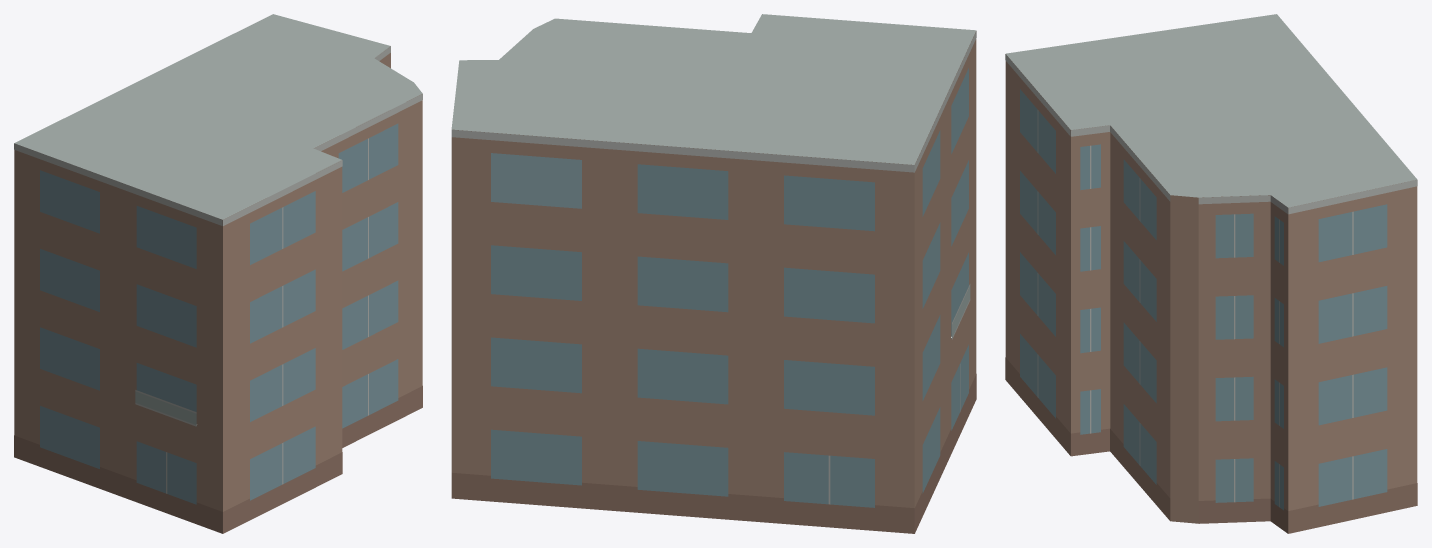
File: survey-upis-32853102.glb
3 views of the same model, side by side, from view 1: azimuth 30°, elevation 25°; view 2: azimuth 150°, elevation 25°; view 3: azimuth 270°, elevation 25° (orthographic). The views are drawn at different scales.
Parts seen in each view (by area): view 1: survey-upis-32853102.tmp; view 2: survey-upis-32853102.tmp; view 3: survey-upis-32853102.tmp.
Boxes of the visible parts, x1,y1,x2,y2 form: survey-upis-32853102.tmp: [14, 14, 422, 533]; survey-upis-32853102.tmp: [451, 14, 976, 533]; survey-upis-32853102.tmp: [1005, 14, 1417, 533].
Size of the model in its own units: 15.1 by 11.85 by 13.58.
